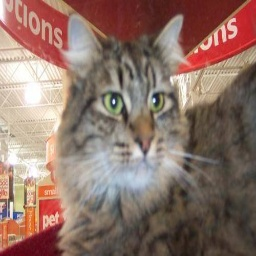cat: (39, 11, 256, 256)
